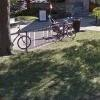Bicycle: (10, 17, 36, 52)
